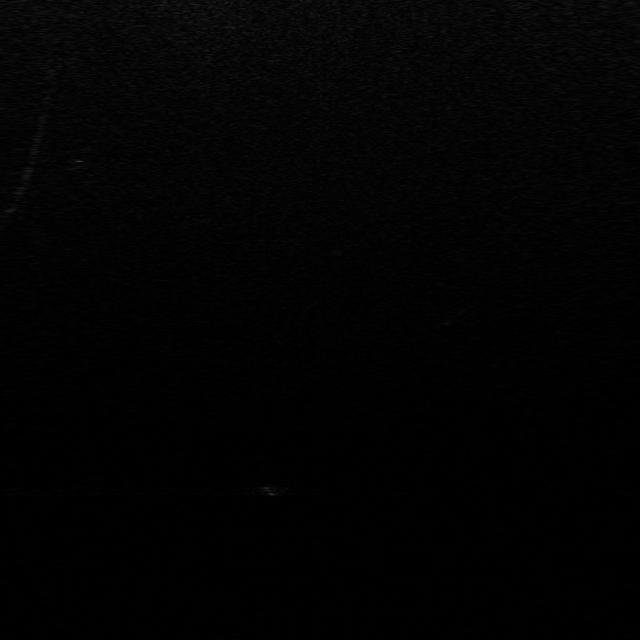ball: (262, 483, 288, 497)
